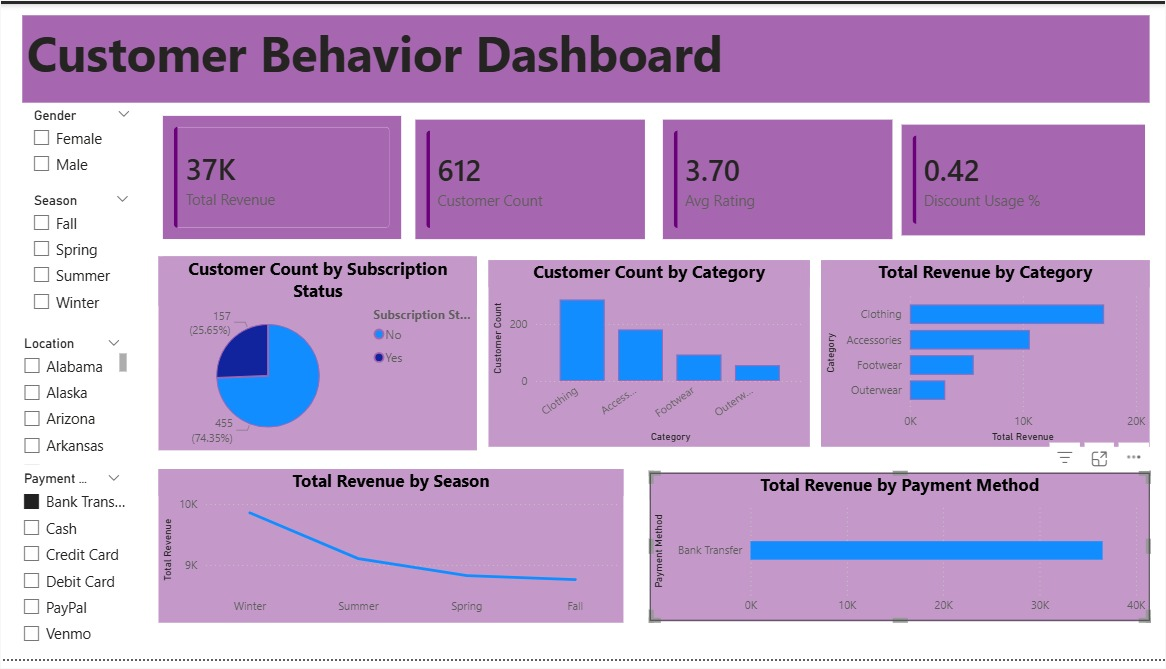

The page's visual inventory and layout, read from the dashboard file:
{"tool":"powerbi","page":{"name":"Page 1","canvas":[1280,720],"ordinal":0},"visuals":[{"type":"slicer","fields":{"Values":["customer_shopping_behavior.Gender"]},"box":[23.3,108.4,130.4,90.6],"z":0},{"type":"slicer","fields":{"Values":["customer_shopping_behavior.Season"]},"box":[23.3,201.7,129,150.9],"z":1000},{"type":"slicer","fields":{"Values":["customer_shopping_behavior.Location"]},"box":[12.3,359.5,130.4,150.9],"z":2000},{"type":"slicer","fields":{"Values":["customer_shopping_behavior.Payment Method"]},"box":[12.3,507.7,130.4,212.7],"z":3000},{"type":"cardVisual","fields":{"Data":["customer_shopping_behavior.Total Revenue"]},"box":[172.9,118,271.7,145.5],"z":4000},{"type":"cardVisual","fields":{"Data":["customer_shopping_behavior.Avg Rating"]},"box":[721.8,122.1,262.1,141.3],"z":5000},{"type":"cardVisual","fields":{"Data":["customer_shopping_behavior.Discount Usage %"]},"box":[983.9,127.6,277.2,131.7],"z":6000},{"type":"cardVisual","fields":{"Data":["customer_shopping_behavior.Customer Count"]},"box":[450.1,122.1,262.1,141.3],"z":7000},{"type":"barChart","fields":{"Category":["customer_shopping_behavior.Category"],"Y":["customer_shopping_behavior.Total Revenue"]},"box":[900.2,281.3,360.9,204.5],"z":8000},{"type":"barChart","fields":{"Category":["customer_shopping_behavior.Payment Method"],"Y":["customer_shopping_behavior.Total Revenue"]},"box":[712.2,514.6,548.9,163.3],"z":9000},{"type":"lineChart","fields":{"Category":["customer_shopping_behavior.Season"],"Y":["customer_shopping_behavior.Total Revenue"]},"box":[172.9,510.5,510.5,168.8],"z":10000},{"type":"clusteredColumnChart","fields":{"Category":["customer_shopping_behavior.Category"],"Y":["customer_shopping_behavior.Customer Count"]},"box":[535.2,281.3,352.7,204.5],"z":11000},{"type":"pieChart","fields":{"Category":["customer_shopping_behavior.Subscription Status"],"Y":["customer_shopping_behavior.Customer Count"]},"box":[172.9,277.2,349.9,212.7],"z":12000},{"type":"textbox","box":[23.3,12.3,1237.7,96.1],"z":13000}]}

Visuals, with their boxes in screenshot pixels (x1, y1, x2, y2):
slicer - customer_shopping_behavior.Gender: {"left": 33, "top": 100, "right": 150, "bottom": 182}
slicer - customer_shopping_behavior.Season: {"left": 33, "top": 184, "right": 149, "bottom": 320}
slicer - customer_shopping_behavior.Location: {"left": 23, "top": 326, "right": 140, "bottom": 462}
slicer - customer_shopping_behavior.Payment Method: {"left": 23, "top": 459, "right": 140, "bottom": 650}
cardVisual - customer_shopping_behavior.Total Revenue: {"left": 167, "top": 109, "right": 412, "bottom": 240}
cardVisual - customer_shopping_behavior.Avg Rating: {"left": 661, "top": 113, "right": 896, "bottom": 240}
cardVisual - customer_shopping_behavior.Discount Usage %: {"left": 896, "top": 118, "right": 1145, "bottom": 236}
cardVisual - customer_shopping_behavior.Customer Count: {"left": 416, "top": 113, "right": 652, "bottom": 240}
barChart - customer_shopping_behavior.Category x customer_shopping_behavior.Total Revenue: {"left": 821, "top": 256, "right": 1145, "bottom": 439}
barChart - customer_shopping_behavior.Payment Method x customer_shopping_behavior.Total Revenue: {"left": 652, "top": 465, "right": 1145, "bottom": 612}
lineChart - customer_shopping_behavior.Season x customer_shopping_behavior.Total Revenue: {"left": 167, "top": 462, "right": 626, "bottom": 613}
clusteredColumnChart - customer_shopping_behavior.Category x customer_shopping_behavior.Customer Count: {"left": 493, "top": 256, "right": 810, "bottom": 439}
pieChart - customer_shopping_behavior.Subscription Status x customer_shopping_behavior.Customer Count: {"left": 167, "top": 252, "right": 482, "bottom": 443}
textbox: {"left": 33, "top": 14, "right": 1145, "bottom": 100}
